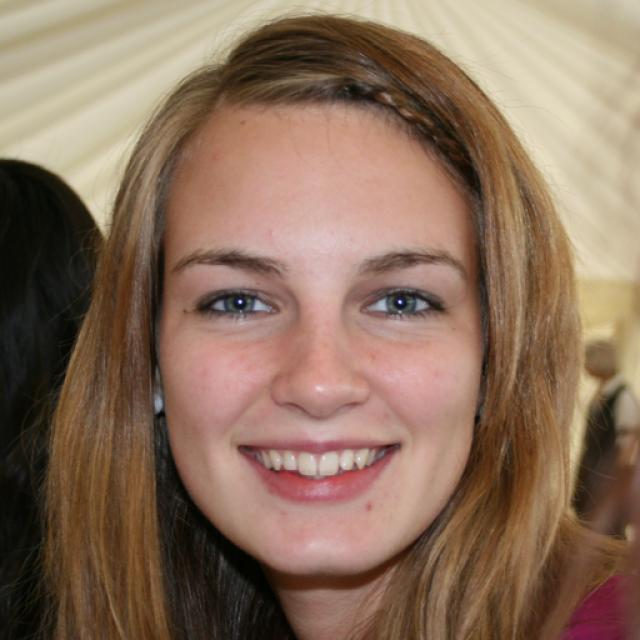happy: (160, 106, 488, 579)
